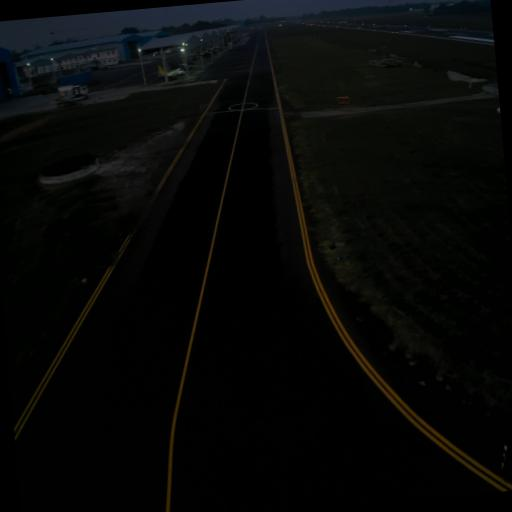on: (336, 252, 341, 262)
